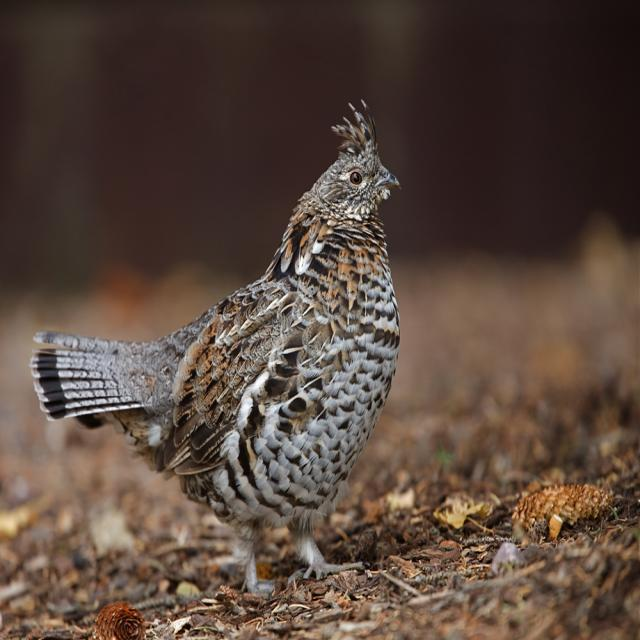bird: (30, 94, 402, 594)
